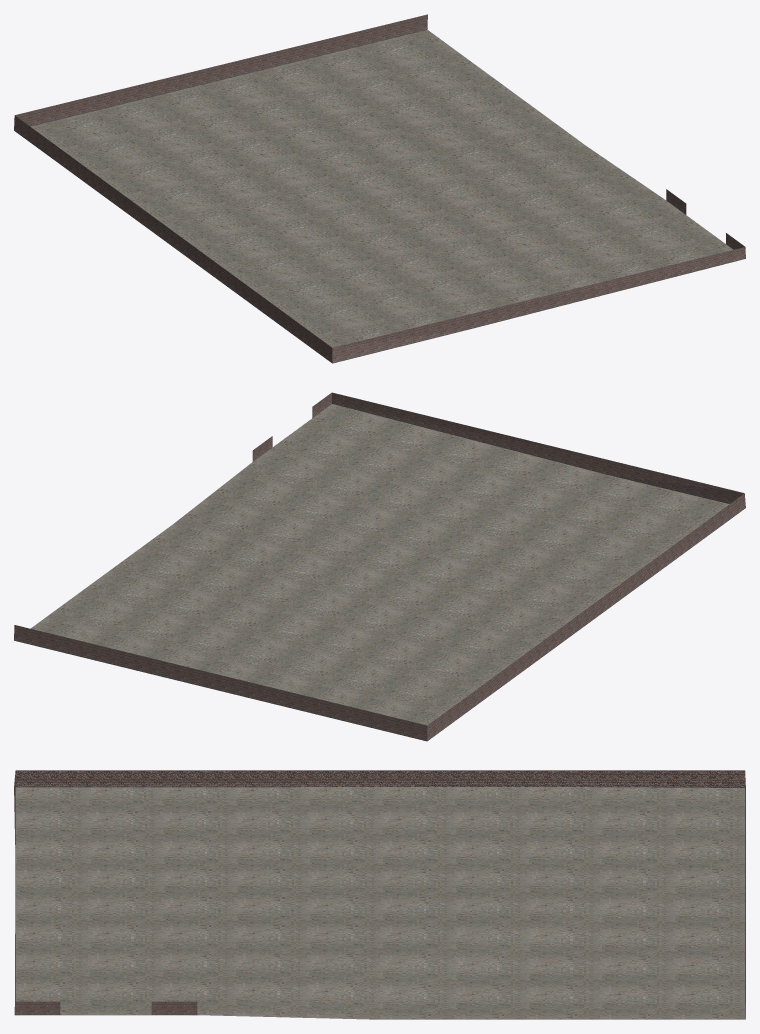
Rendered from lodeland18_lvs.obj.
3 views of the same model, one above another, from view 1: azimuth 30°, elevation 25°; view 2: azimuth 150°, elevation 25°; view 3: azimuth 270°, elevation 25° (orthographic). The views are drawn at different scales.
Parts seen in each view (by area): view 1: lodEland18_lvs; view 2: lodEland18_lvs; view 3: lodEland18_lvs.
Part boxes in pixels (bbox=[...]): lodEland18_lvs: bbox=[14, 14, 745, 363]; lodEland18_lvs: bbox=[14, 392, 745, 741]; lodEland18_lvs: bbox=[14, 770, 745, 1019].
Size of the model in its own units: 60.04 by 2.17 by 80.09.
3 materials, 3 textured.
